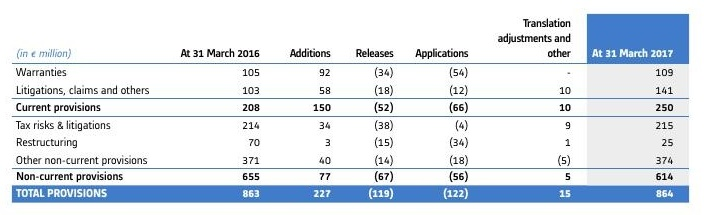table: (0, 0, 704, 215)
